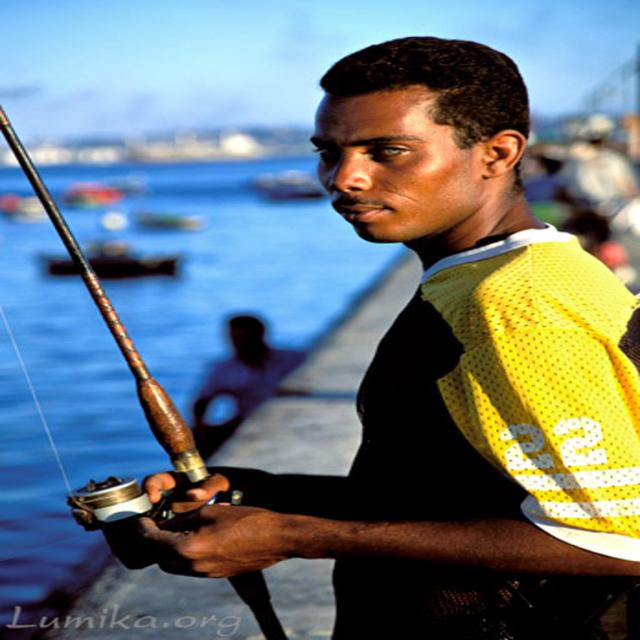Face: (289, 79, 494, 245)
